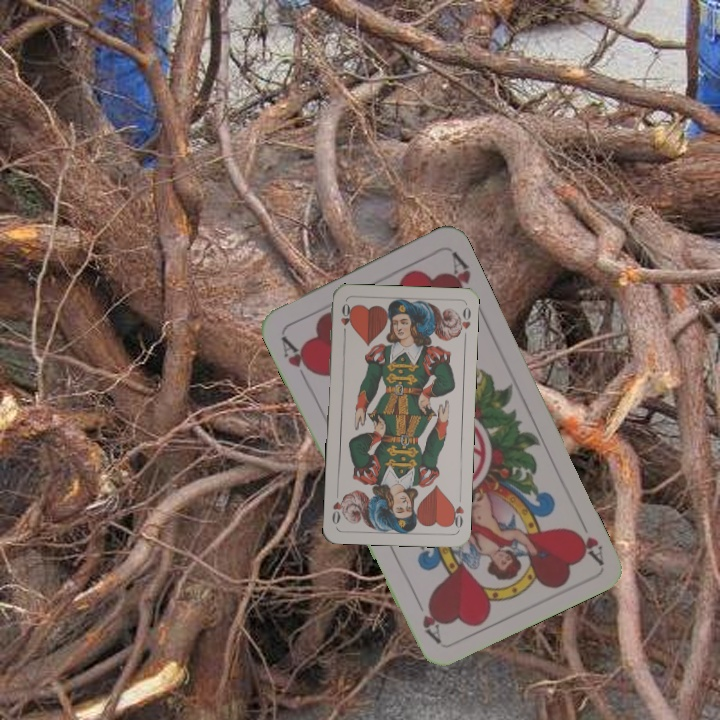HA: (277, 328, 317, 384), (567, 509, 606, 566)
HO: (447, 491, 466, 530), (337, 299, 353, 339)
